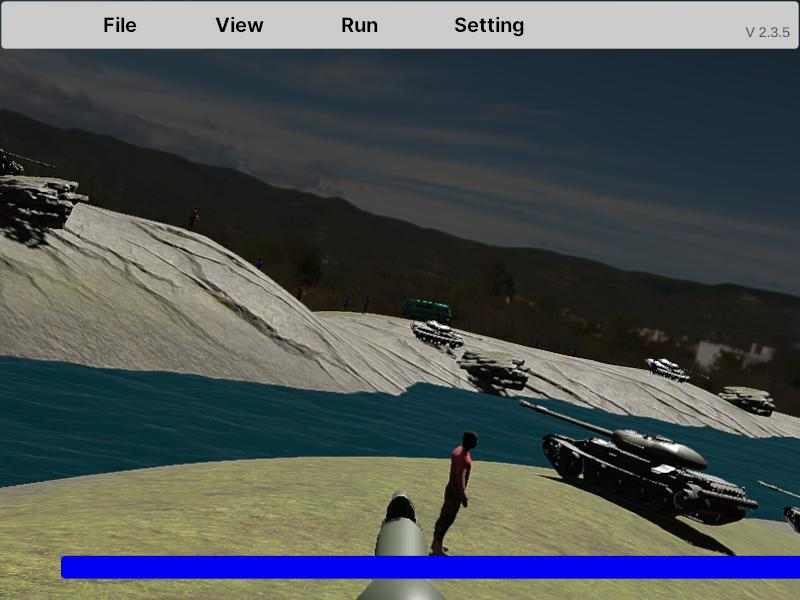Human: (429, 430, 479, 562)
Tank: (518, 404, 759, 527), (758, 480, 800, 551), (458, 351, 530, 392)
